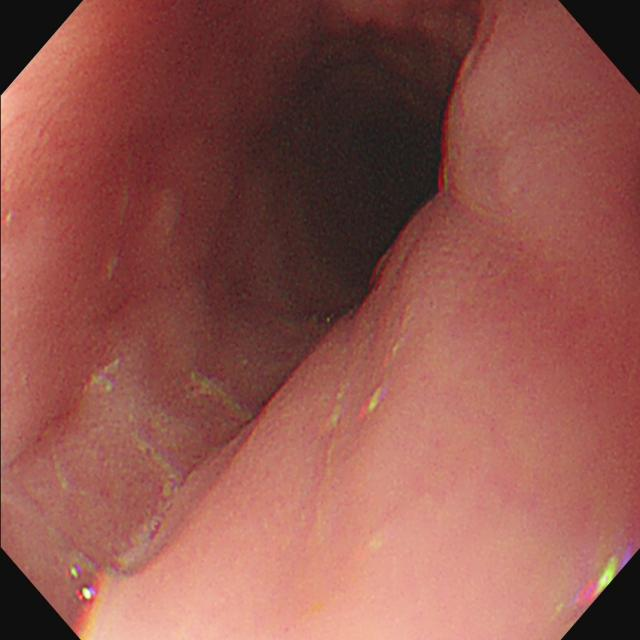E: (253, 50, 464, 284)
J: (79, 361, 252, 568)
